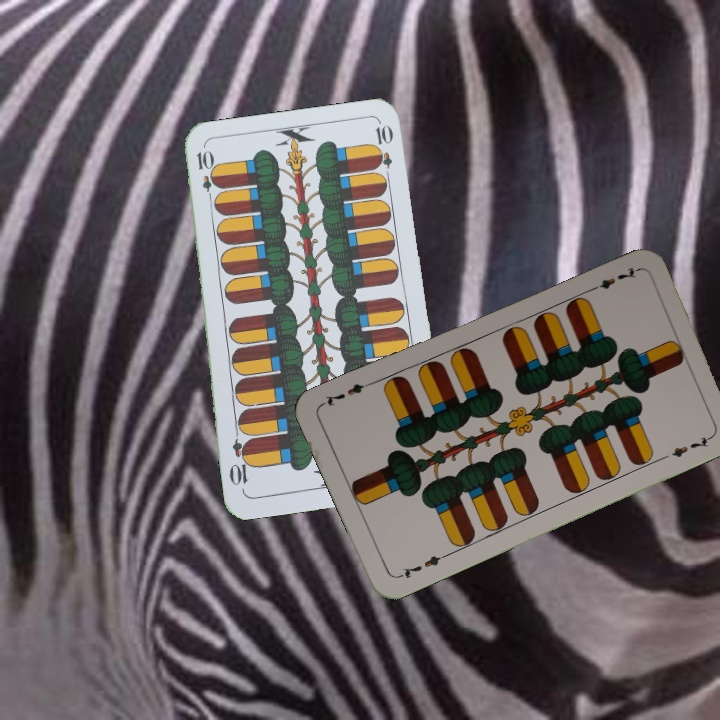E10: (193, 146, 217, 206)
E7: (584, 263, 640, 295), (394, 550, 450, 581)
